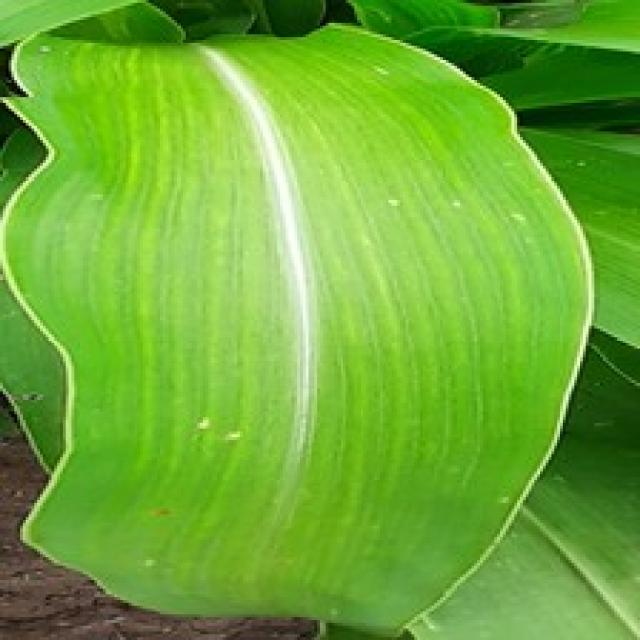Corn: (0, 17, 594, 637)
